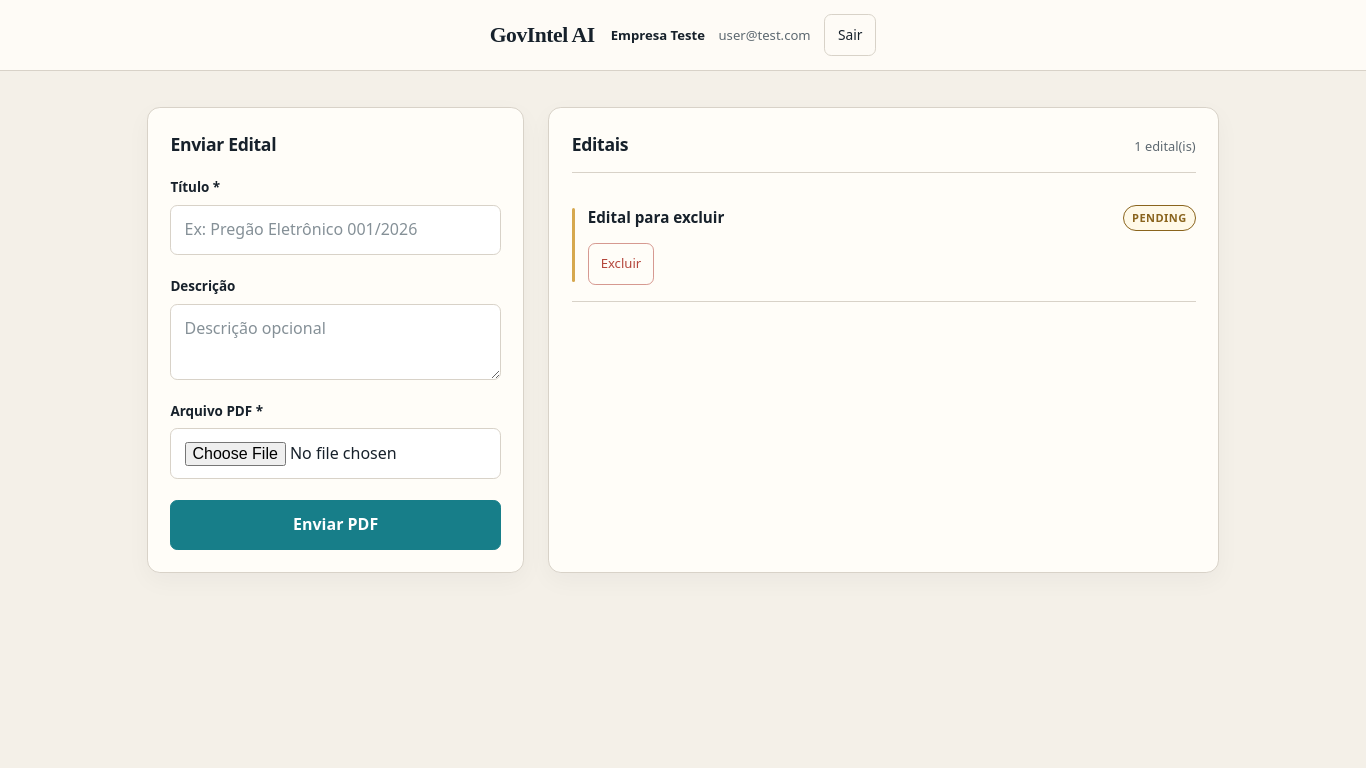
Test case: Dashboard delete tender › exibe erro quando a exclusão falha e mantém o edital
Expected: the text "Edital para excluir" is shown, [588, 206, 724, 230]
Click the button "Excluir" at point(621, 264), box [588, 243, 654, 284]
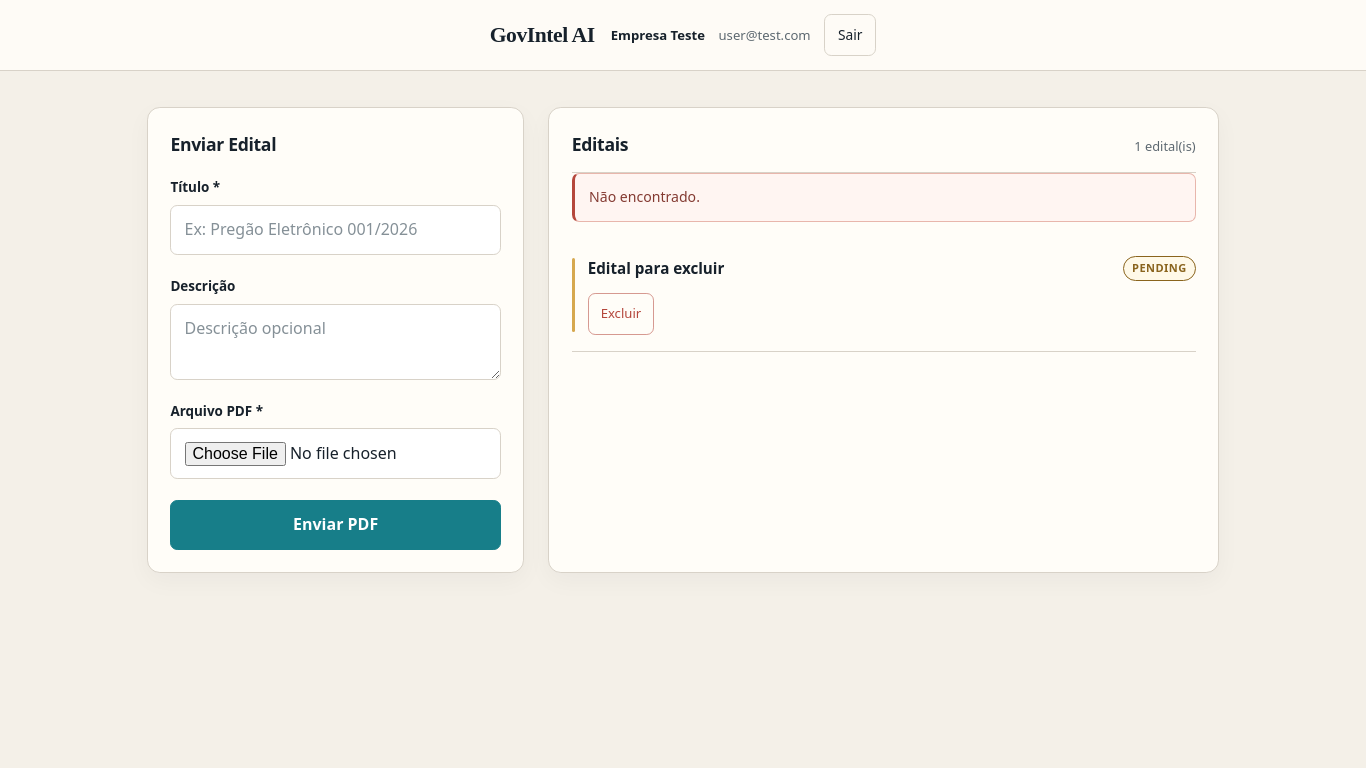
Expected: the text "Edital para excluir" is shown, [588, 256, 724, 280]
Expected: the text "Não encontrado." is shown, [572, 174, 1196, 222]
